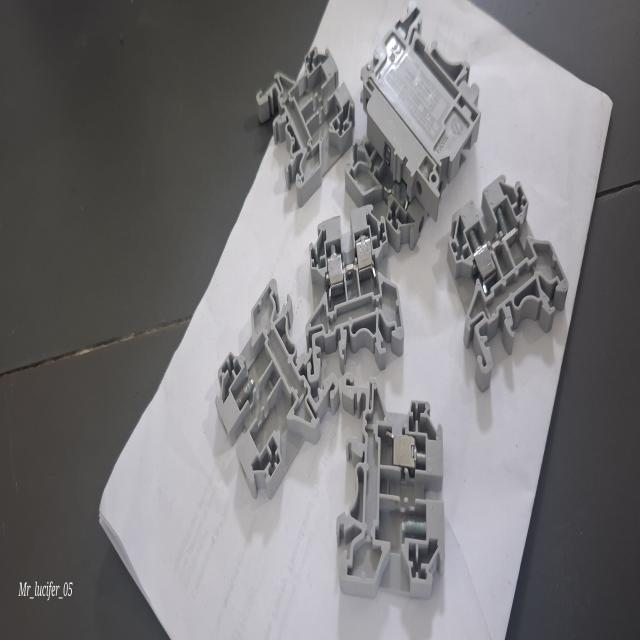Pass: (302, 202, 408, 378)
Reject: (214, 276, 342, 498), (448, 170, 570, 389), (336, 368, 446, 604), (256, 44, 356, 200)
